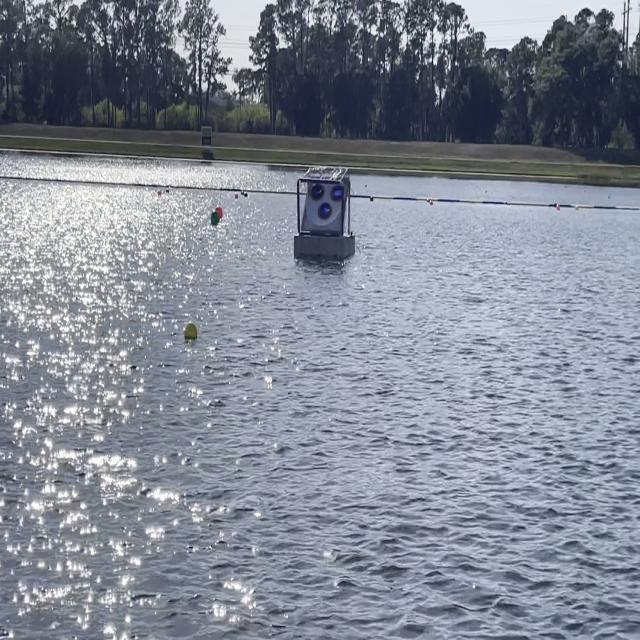buoy: (182, 322, 202, 345), (210, 212, 222, 228), (215, 207, 224, 220)
